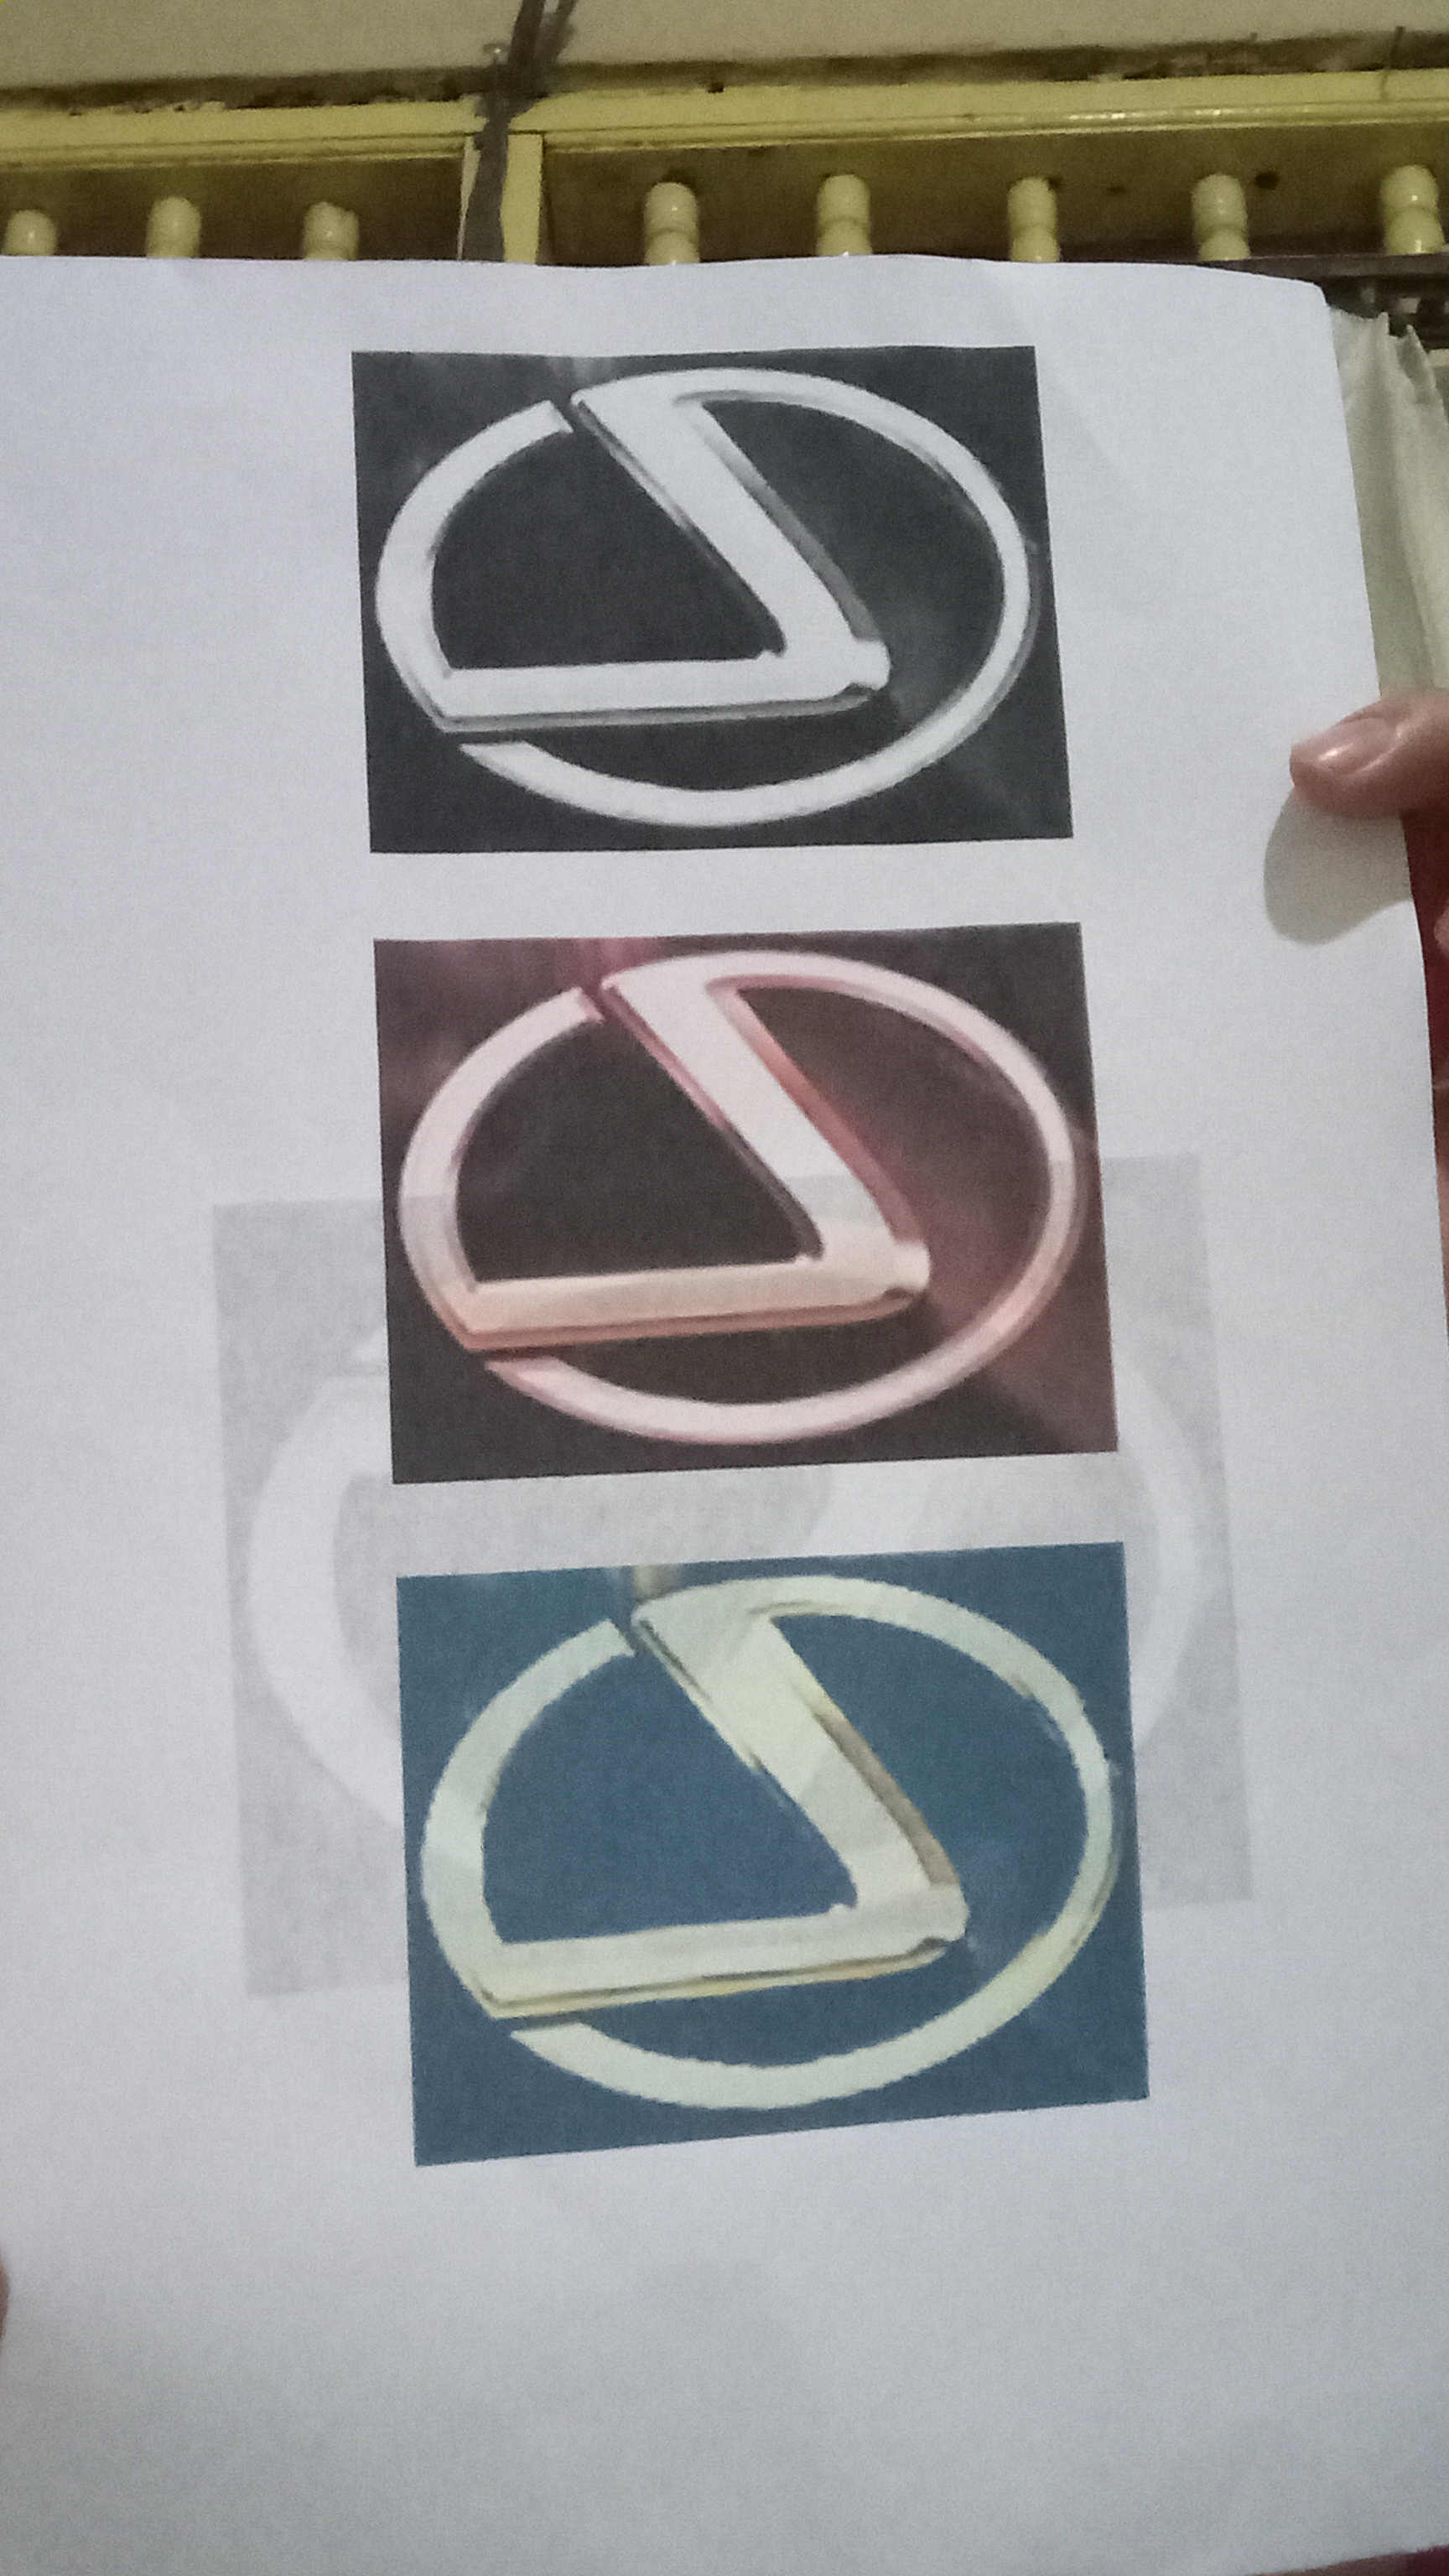Lexus: (393, 1573, 1152, 2137), (382, 941, 1095, 1479), (363, 354, 1037, 842)
